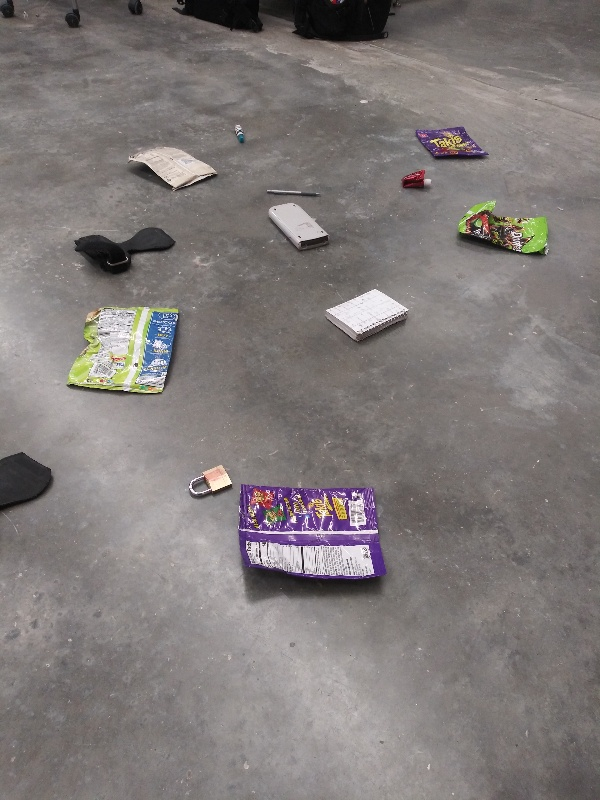bag: (234, 478, 392, 584), (66, 301, 183, 400), (453, 197, 554, 262), (126, 142, 224, 195), (410, 122, 492, 163)
